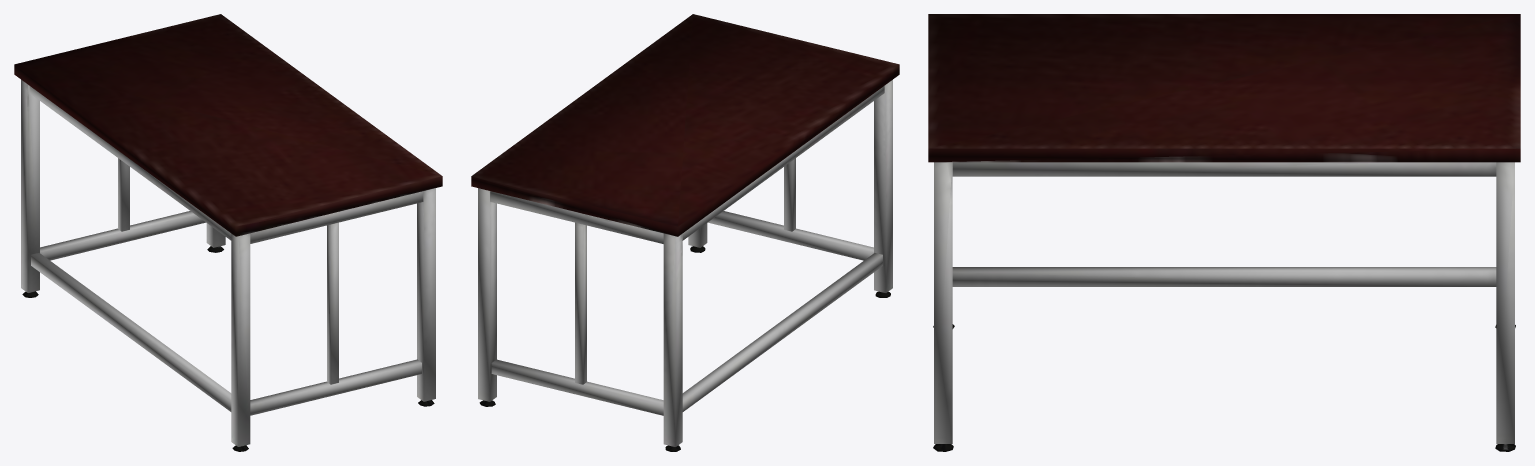
File: tripo_convert_45279fb5-e1b4-4351-9d4b-2e190270e9b5.fbx
3 views of the same model, side by side, from view 1: azimuth 30°, elevation 25°; view 2: azimuth 150°, elevation 25°; view 3: azimuth 270°, elevation 25° (orthographic). The views are drawn at different scales.
Visible parts, largest first — view 1: tripo_node_45279fb5; view 2: tripo_node_45279fb5; view 3: tripo_node_45279fb5.
Boxes of the visible parts, x1=… form: tripo_node_45279fb5: x1=14, y1=14, x2=442, y2=451; tripo_node_45279fb5: x1=471, y1=14, x2=899, y2=451; tripo_node_45279fb5: x1=928, y1=14, x2=1520, y2=451.
Size of the model in its own units: 0.5371 by 0.5684 by 0.998.
Materials: 1 (1 with a texture image).
